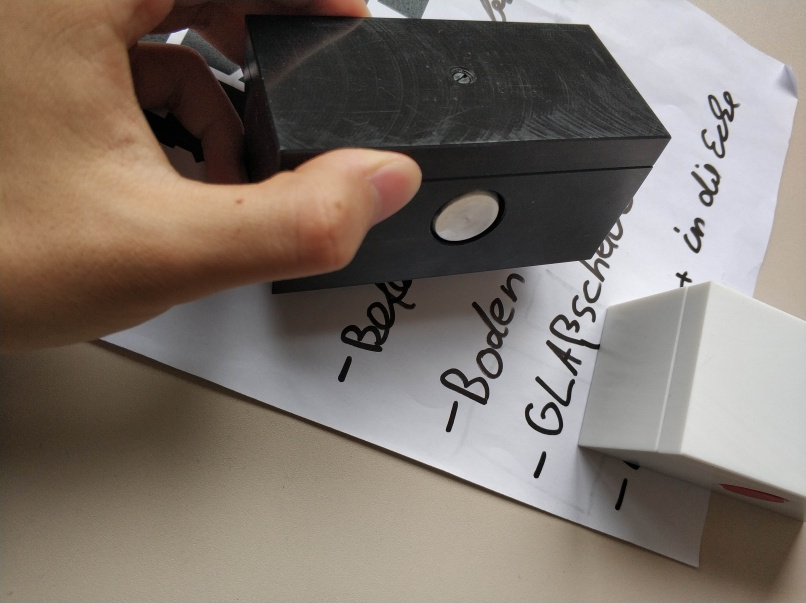black+black+silver: (236, 10, 675, 296)
white+white+red: (576, 278, 806, 529)
